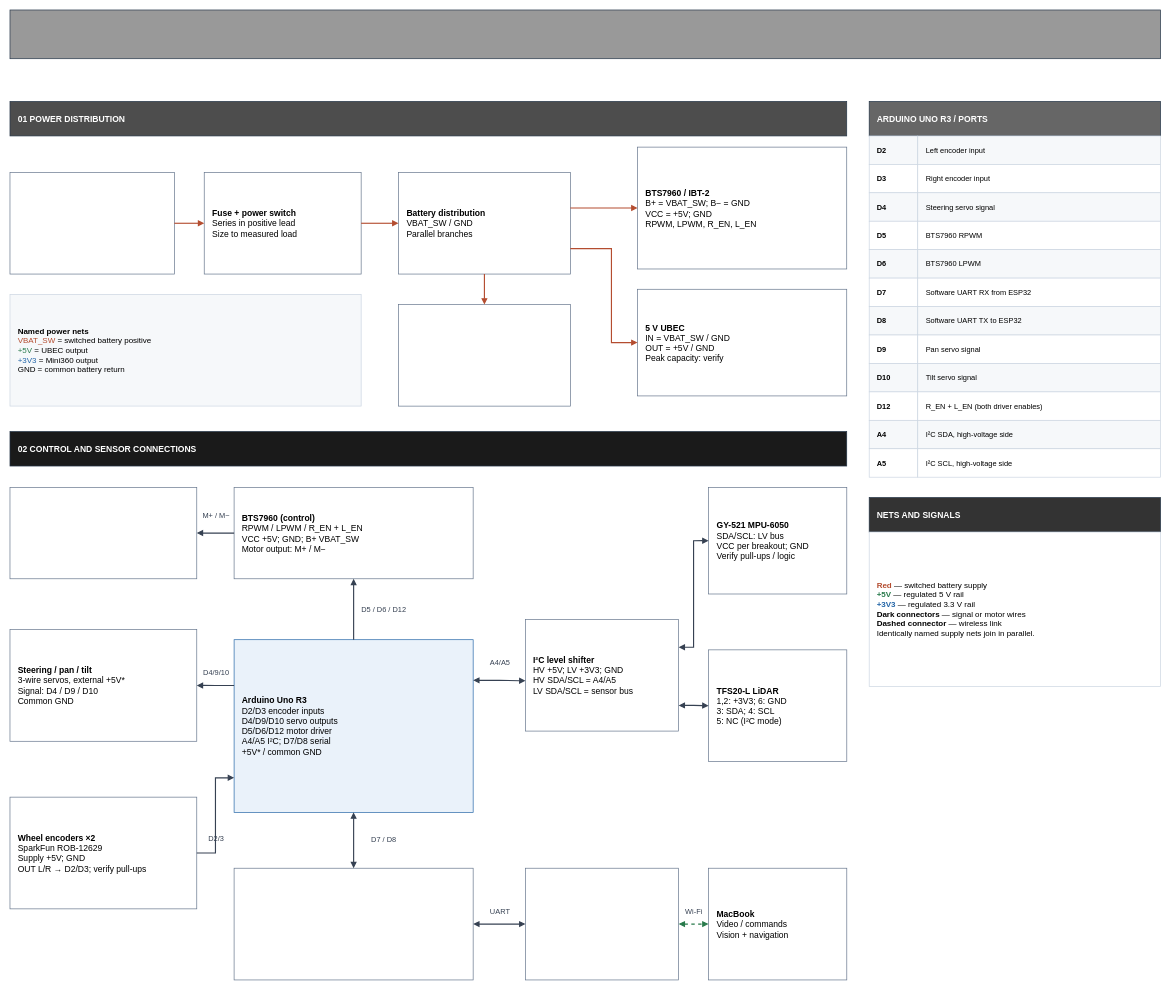
This 1171x990 diagram has some shape labels left out. Here are the shapes that lost their labels. From the top down, the centre of each, then its label:
At (x=585, y=34): "TERRAINTRACK / WIRING".
At (x=91, y=223): "2S RC battery 7.4 V nominal / 8.4 V full B+ / B−".
At (x=484, y=355): "Mini360 3.3 V buck IN = VBAT_SW / GND OUT = +3V3 / GND Verify output before use".
At (x=103, y=533): "Rear drive motor M+ / M− from BTS7960 Stall current: verify".
At (x=353, y=924): "UART level translator HV +5V; LV +3V3; GND D8 TX → ESP RX D7 RX ← ESP TX".
At (x=602, y=924): "ESP32-S3 camera UART GPIO: board-specific Power input: verify board Common GND".
